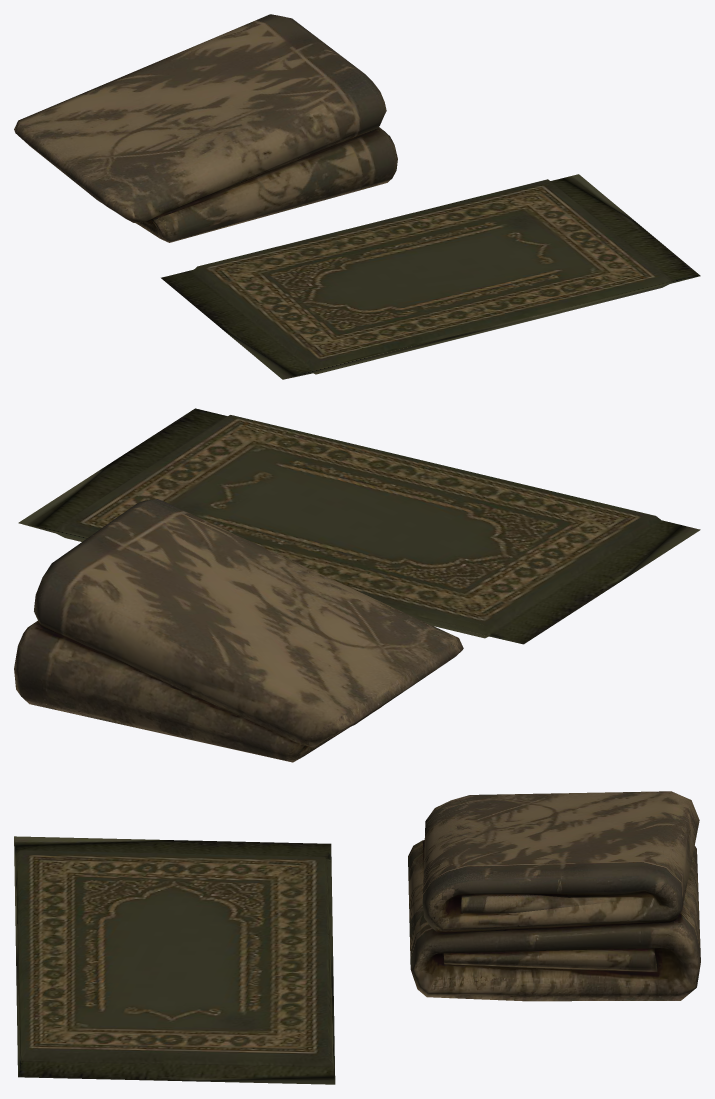
File: Prayer Mat.fbx
3 views of the same model, one above another, from view 1: azimuth 30°, elevation 25°; view 2: azimuth 150°, elevation 25°; view 3: azimuth 270°, elevation 25° (orthographic). The views are drawn at different scales.
Visible parts, largest first — view 1: tripo_node_d61ba483-a5ba-4220-a7c1-7455caccae30, tripo_node_d61ba483-a5ba-4220-a7c1-7455caccae30.001; view 2: tripo_node_d61ba483-a5ba-4220-a7c1-7455caccae30.001, tripo_node_d61ba483-a5ba-4220-a7c1-7455caccae30; view 3: tripo_node_d61ba483-a5ba-4220-a7c1-7455caccae30, tripo_node_d61ba483-a5ba-4220-a7c1-7455caccae30.001.
Part boxes in pixels (x1,y1,x2,y2): tripo_node_d61ba483-a5ba-4220-a7c1-7455caccae30: (161, 174, 700, 379); tripo_node_d61ba483-a5ba-4220-a7c1-7455caccae30.001: (14, 14, 397, 242); tripo_node_d61ba483-a5ba-4220-a7c1-7455caccae30.001: (14, 499, 463, 762); tripo_node_d61ba483-a5ba-4220-a7c1-7455caccae30: (18, 408, 700, 644); tripo_node_d61ba483-a5ba-4220-a7c1-7455caccae30: (14, 836, 335, 1084); tripo_node_d61ba483-a5ba-4220-a7c1-7455caccae30.001: (408, 791, 700, 1001).
Bounding box in the file's own units: 85.35 × 20.9 × 99.8.
Materials: 1 (1 with a texture image).
